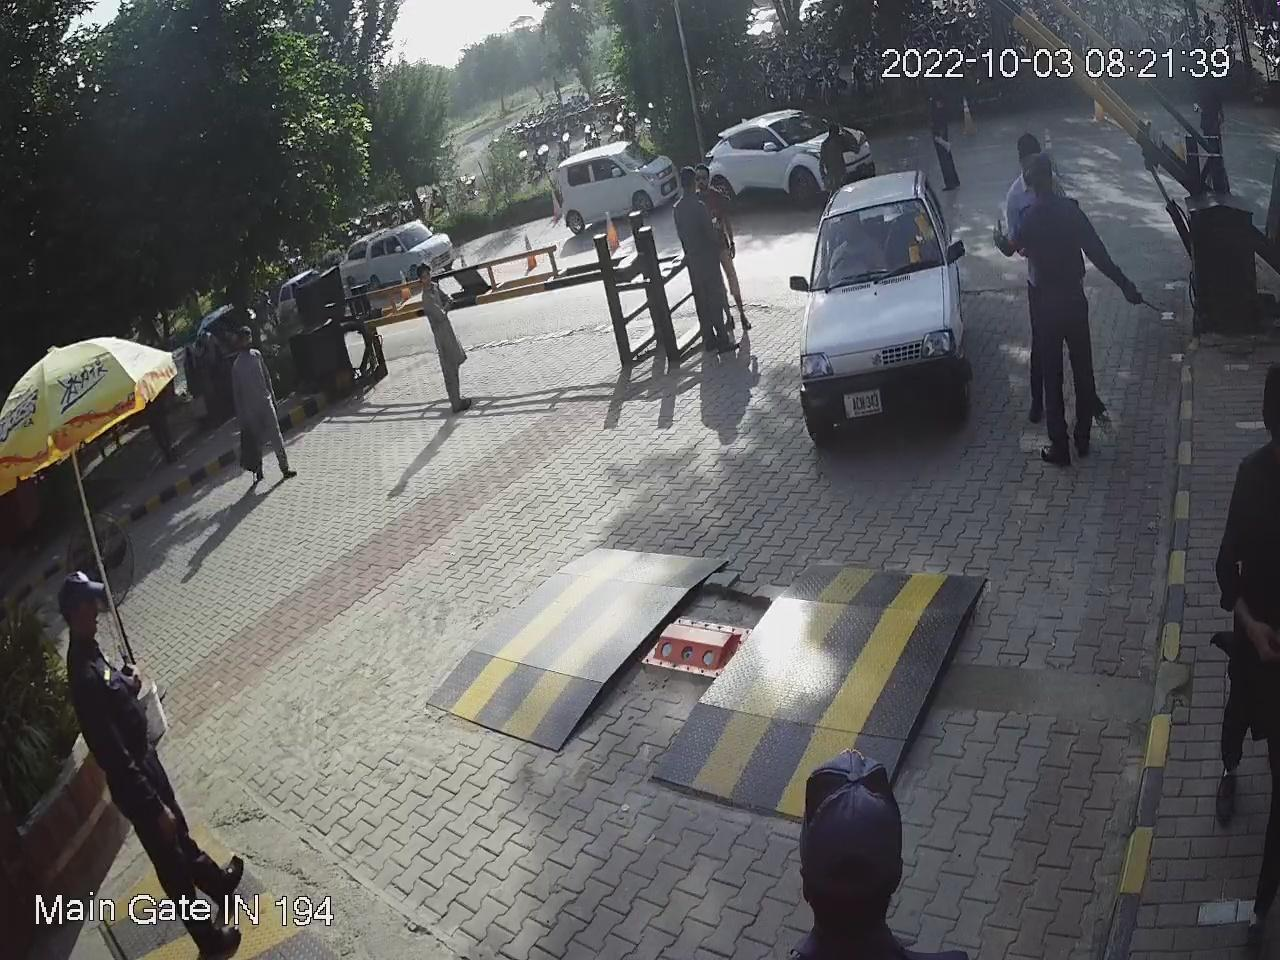windshield: (808, 190, 947, 290)
